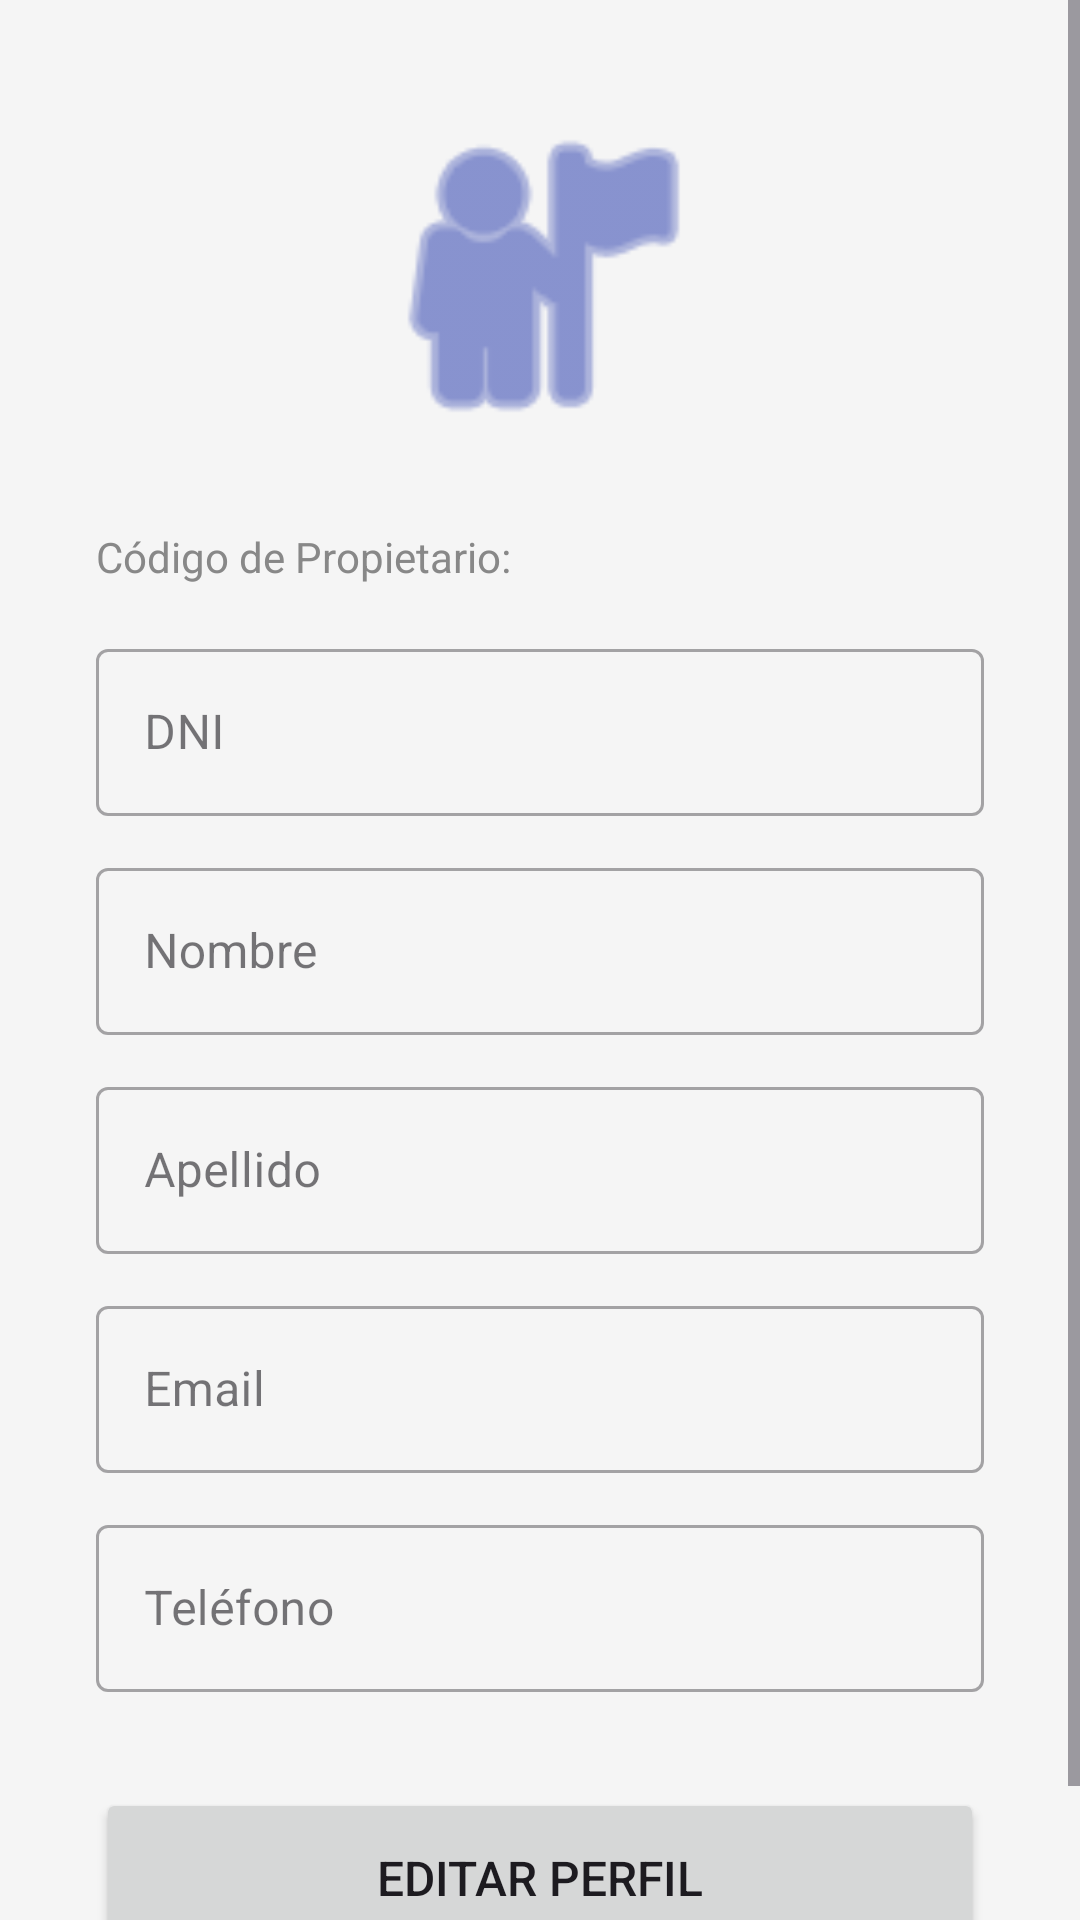

Named icons in this screenshot (1080×1920) and their bounding boxes, (x1, y1, x2, y2):
myplaces: (409, 142, 679, 410)
